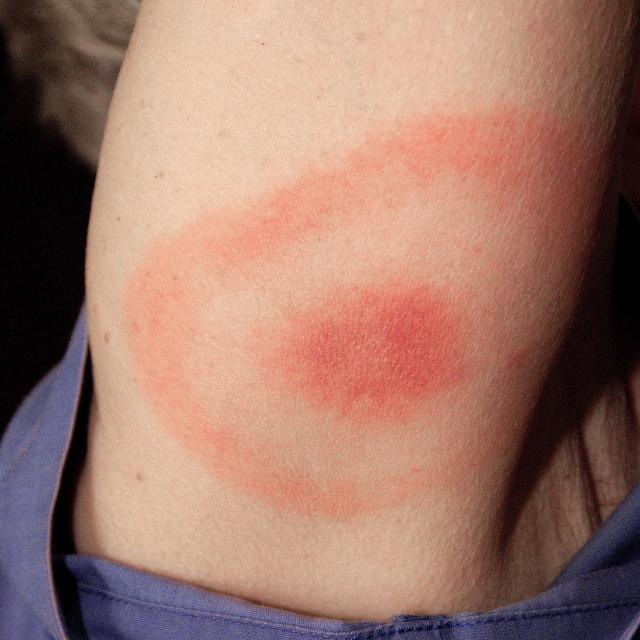Erythema chronicum migrans: (144, 153, 489, 526)
